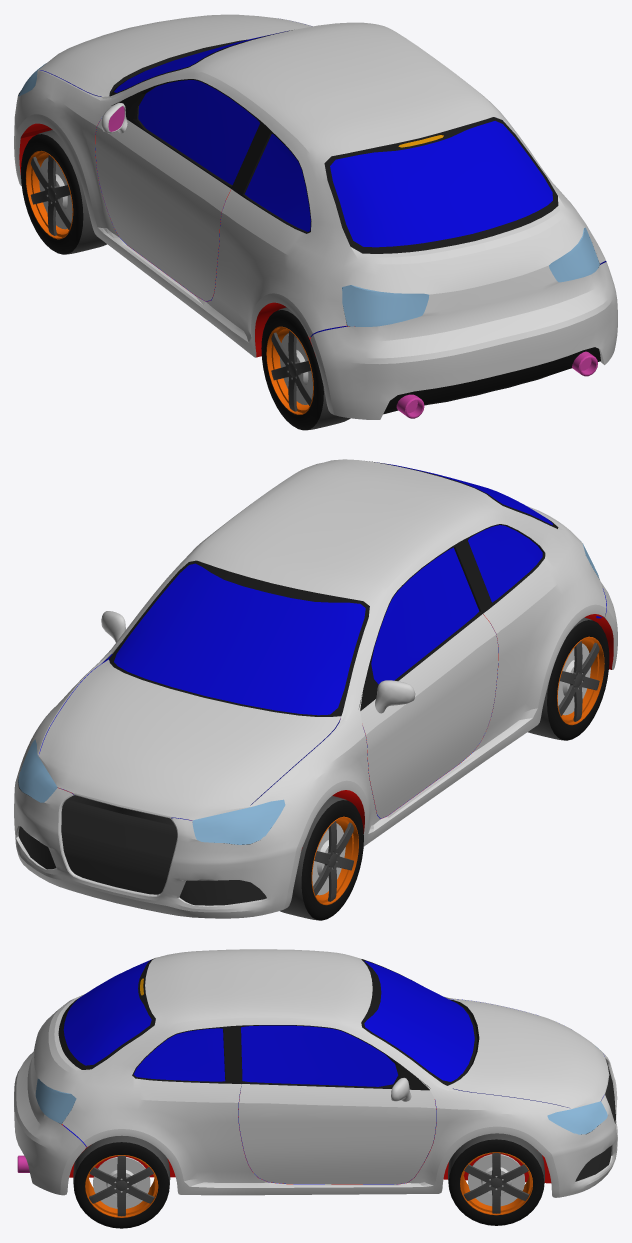
3 renders of one model, top to bottom at view 1: azimuth 30°, elevation 25°; view 2: azimuth 150°, elevation 25°; view 3: azimuth 270°, elevation 25°, orthographic. The views are drawn at different scales.
Visible parts, largest first — view 1: Wind, FL, RL; view 2: Wind, FL, RL; view 3: Wind, RR, FR.
Part boxes in pixels (x1,y1,x2,y2): Wind: [14, 14, 617, 419]; FL: [21, 130, 106, 254]; RL: [261, 307, 350, 430]; Wind: [14, 459, 617, 918]; FL: [280, 796, 363, 920]; RL: [528, 617, 609, 740]; Wind: [14, 949, 617, 1197]; RR: [73, 1135, 170, 1228]; FR: [448, 1133, 544, 1225].
Size of the model in its own units: 19.21 by 41.6 by 14.97.
